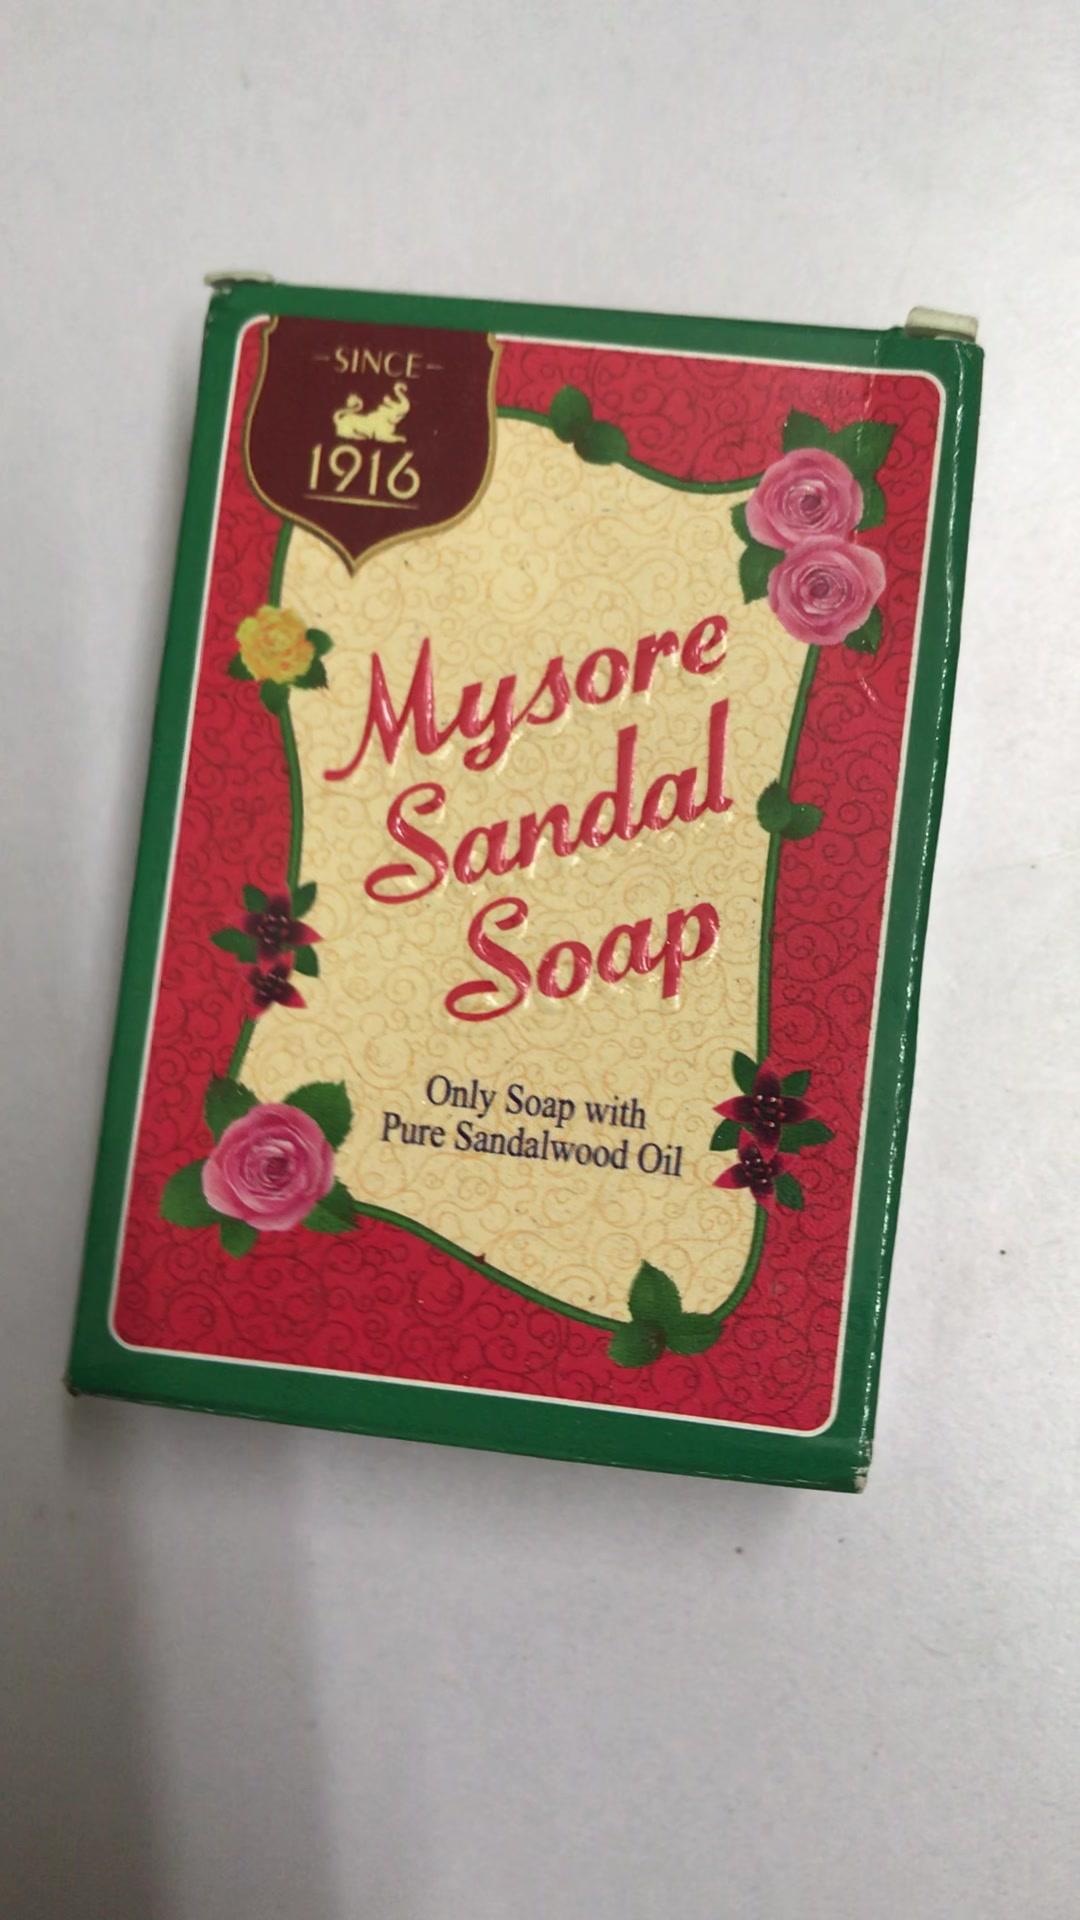mysore sandal soap: (69, 280, 982, 1491)
